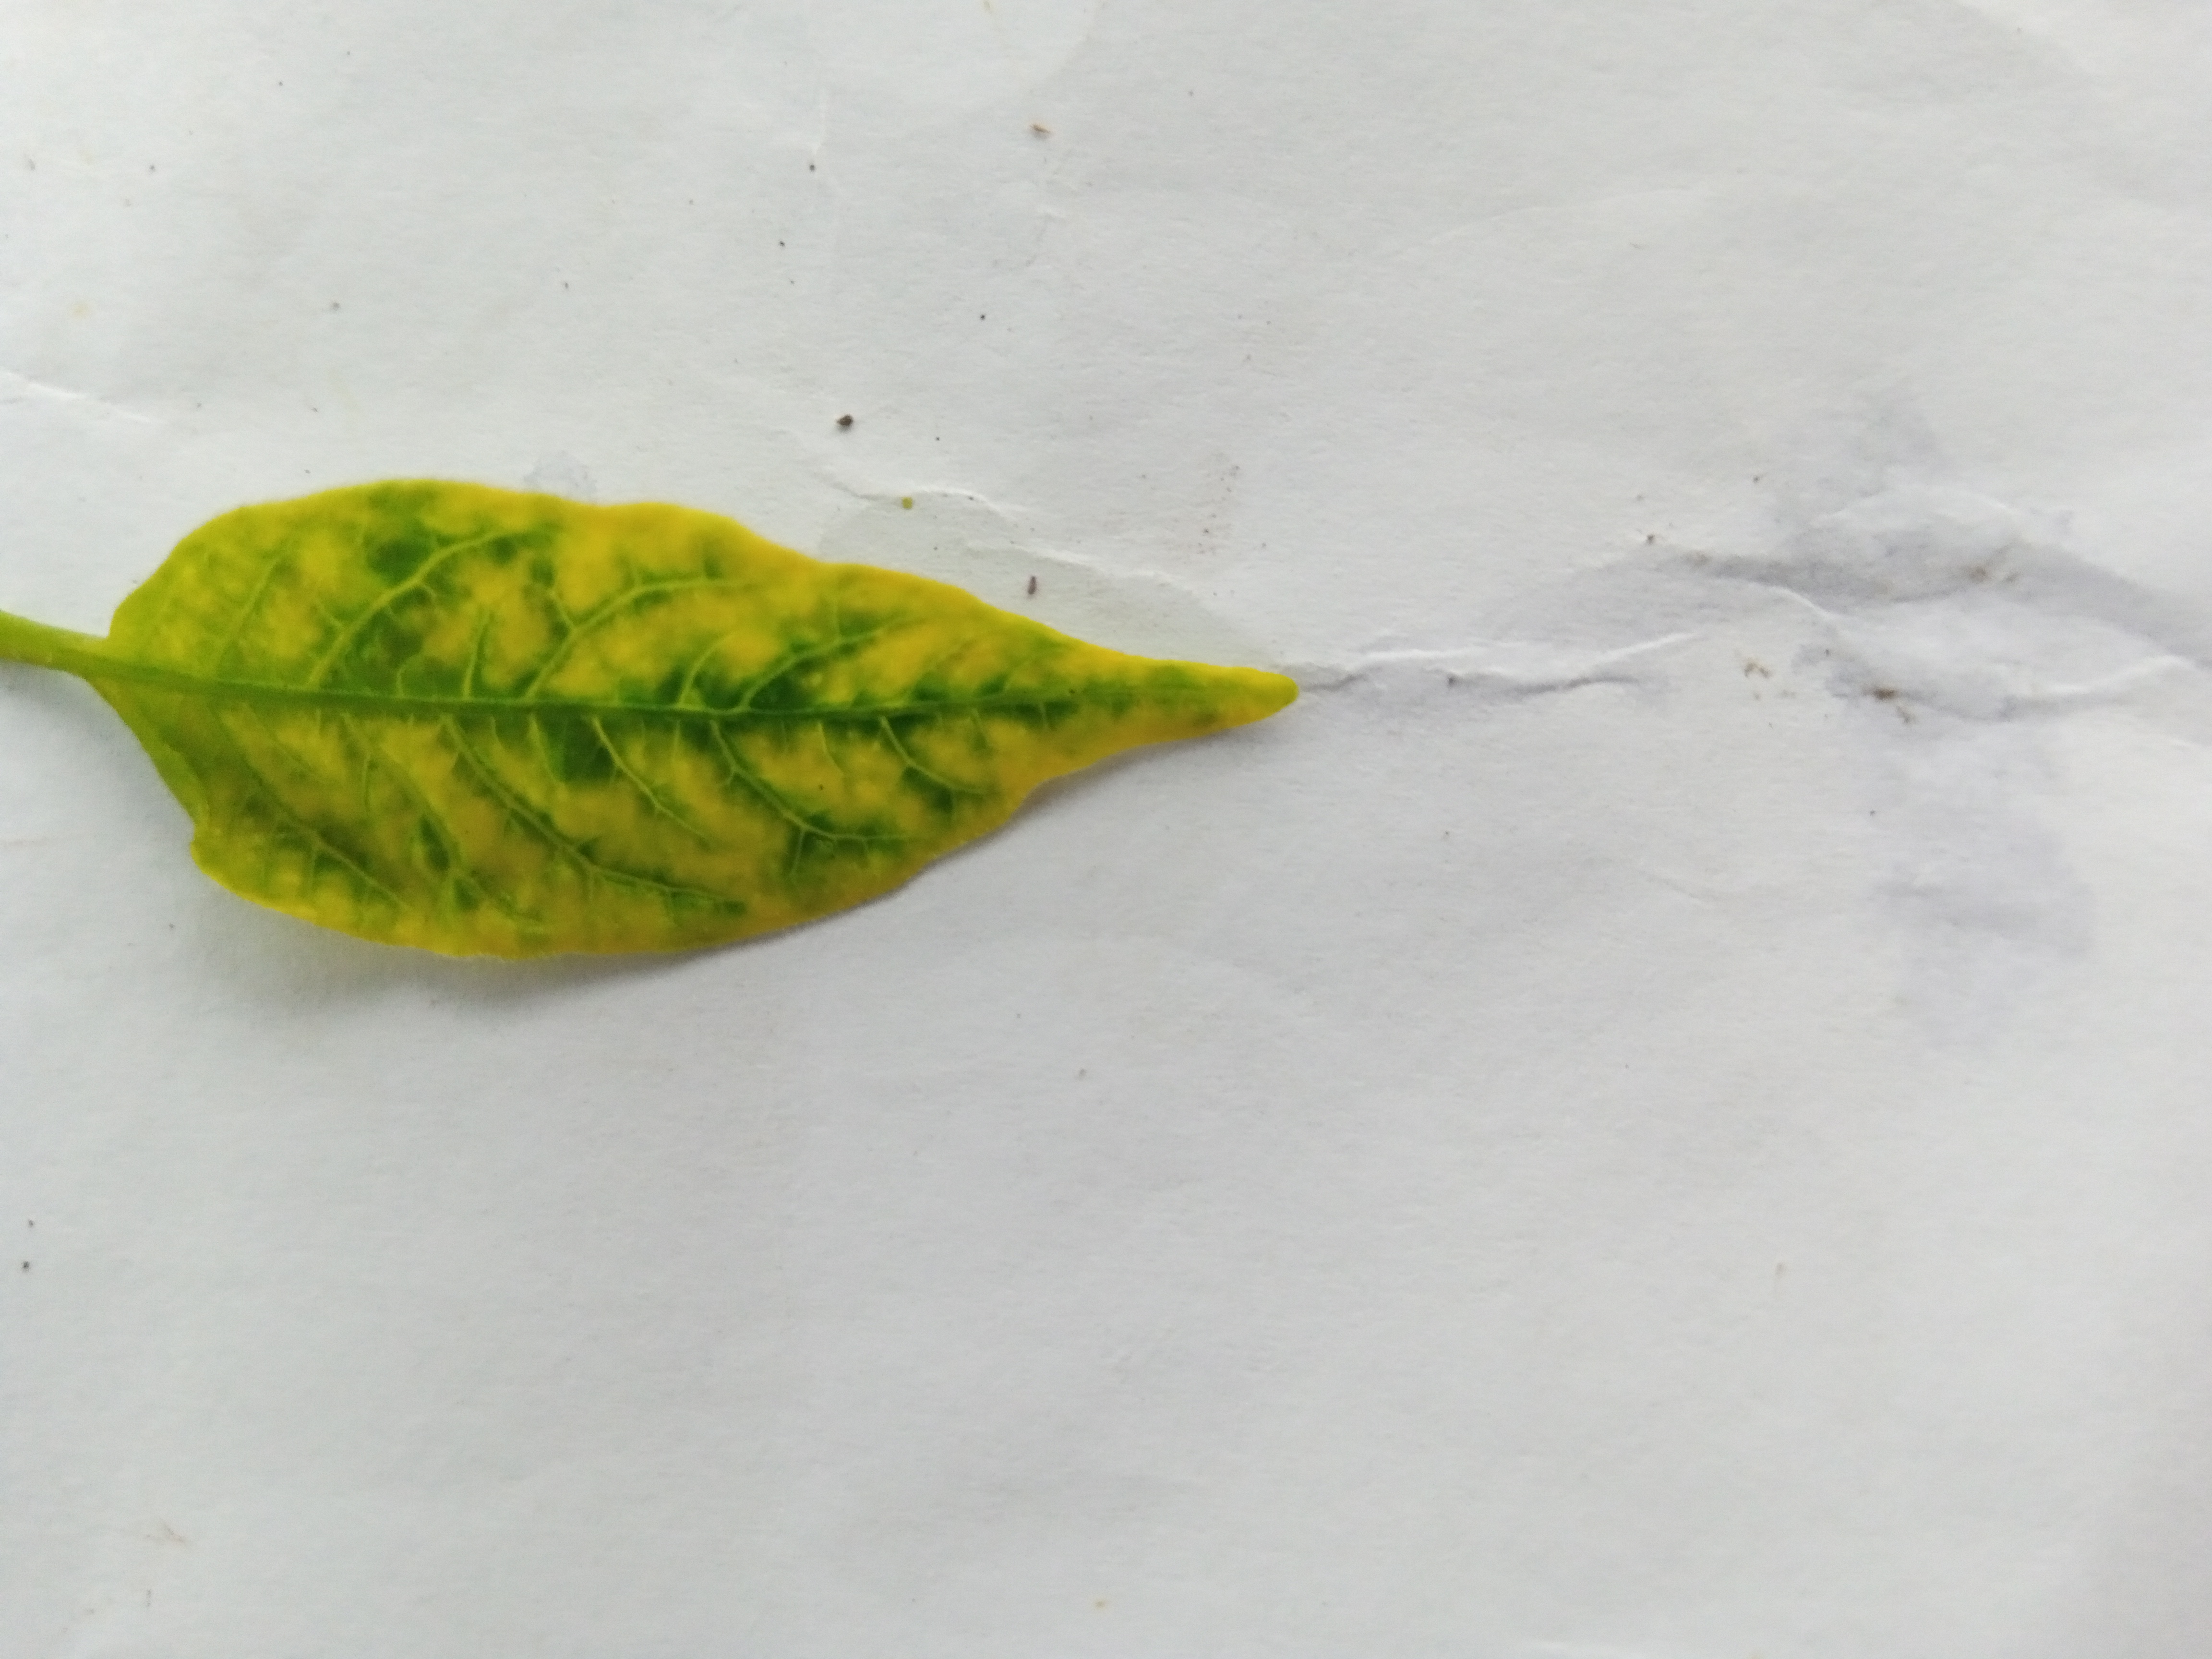Leaf: (73, 471, 1374, 1096)
